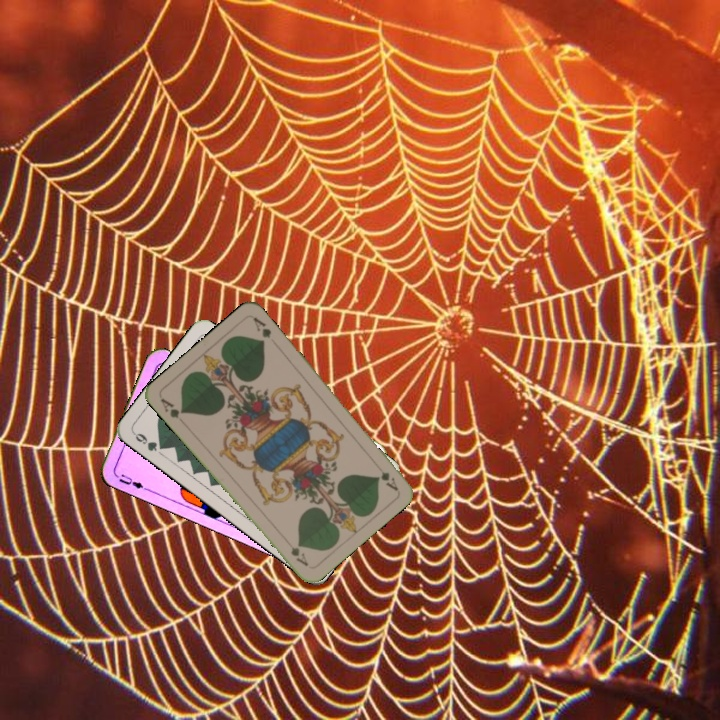EU: (112, 470, 150, 493)
G9: (129, 429, 168, 454)
GA: (370, 458, 401, 493), (157, 394, 188, 427)
